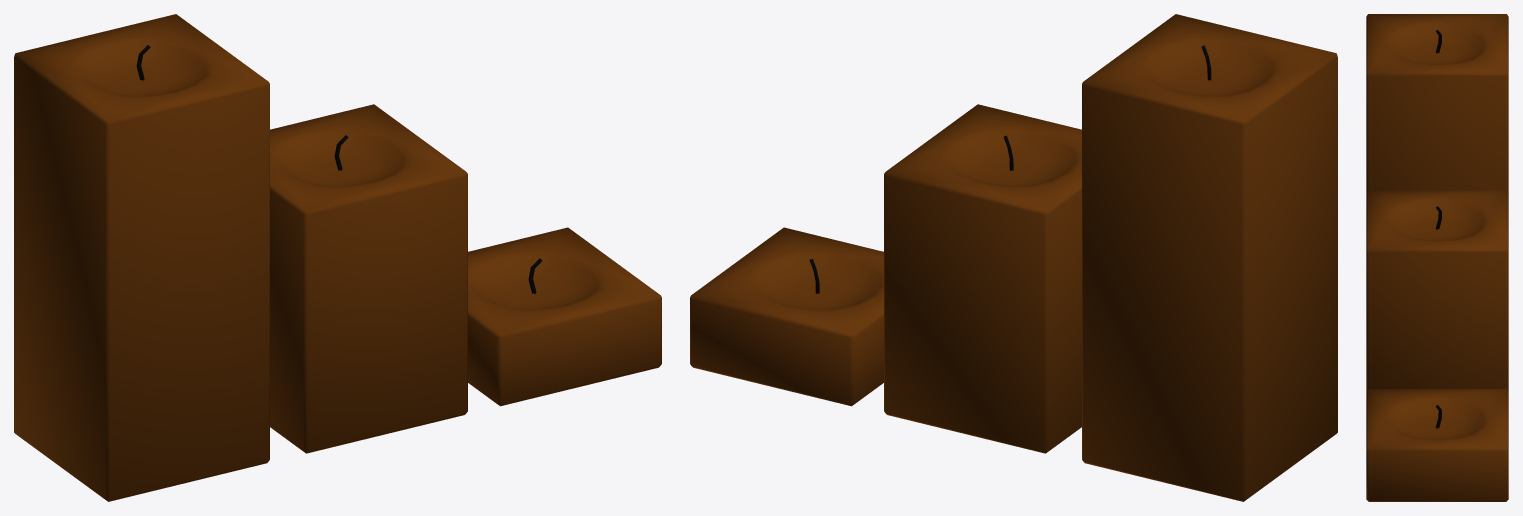
File: Candles.FBX
3 views of the same model, side by side, from view 1: azimuth 30°, elevation 25°; view 2: azimuth 150°, elevation 25°; view 3: azimuth 270°, elevation 25° (orthographic). The views are drawn at different scales.
Parts seen in each view (by area): view 1: Candle_big, Candle_middle, Candle_small; view 2: Candle_big, Candle_middle, Candle_small; view 3: Candle_middle, Candle_big, Candle_small.
Boxes of the visible parts, x1,y1,x2,y2 form: Candle_big: (14,14,269,501); Candle_middle: (270,104,467,453); Candle_small: (468,227,661,406); Candle_big: (1082,14,1337,501); Candle_middle: (884,104,1081,453); Candle_small: (690,227,883,406); Candle_middle: (1366,190,1508,391); Candle_big: (1366,14,1508,192); Candle_small: (1366,389,1508,501).
Size of the model in its own units: 28.4 by 19.63 by 8.38.
